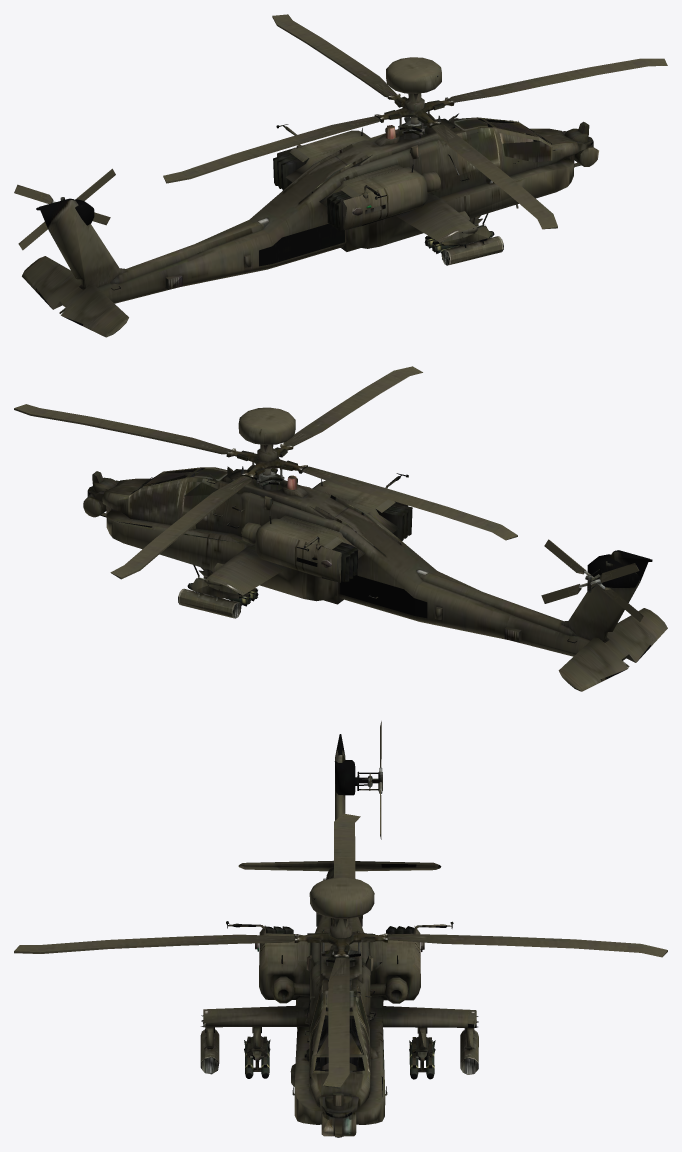
File: apache.glb
3 views of the same model, one above another, from view 1: azimuth 30°, elevation 25°; view 2: azimuth 150°, elevation 25°; view 3: azimuth 270°, elevation 25° (orthographic). The views are drawn at different scales.
Visible parts, largest first — view 1: g_apache_hull, g_apache_rotor, g_apache_rotor2; view 2: g_apache_hull, g_apache_rotor, g_apache_rotor2; view 3: g_apache_hull, g_apache_rotor.
Boxes of the visible parts, x1,y1,x2,y2 form: g_apache_hull: (22, 57, 598, 337); g_apache_rotor: (163, 14, 667, 229); g_apache_rotor2: (14, 168, 115, 250); g_apache_hull: (83, 407, 667, 691); g_apache_rotor: (14, 366, 517, 579); g_apache_rotor2: (541, 539, 643, 621); g_apache_hull: (200, 734, 478, 1137); g_apache_rotor: (14, 813, 667, 1088).
Size of the model in its own units: 17.7 by 4.53 by 13.87.
3 materials, 3 textured.
